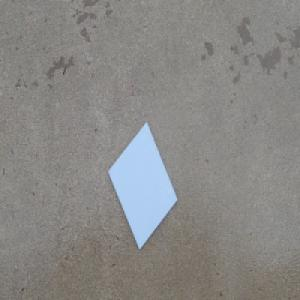PaintChip: (106, 118, 178, 253)
